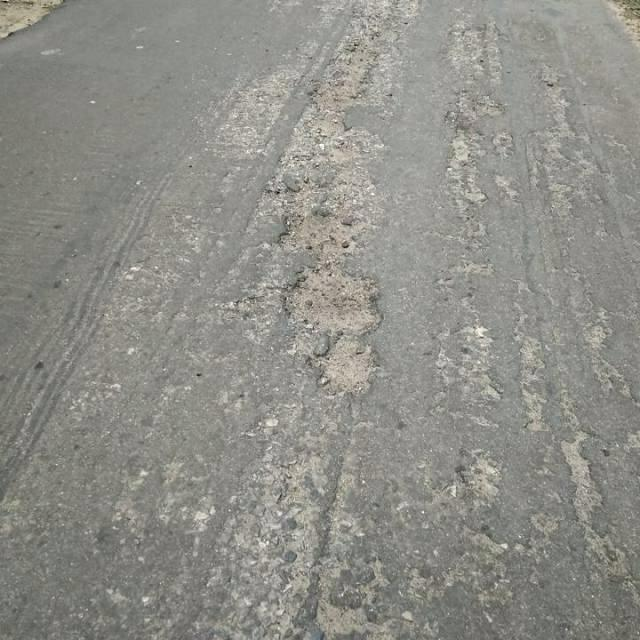Pothole: (278, 262, 388, 333), (303, 41, 380, 140), (274, 209, 372, 259), (310, 332, 381, 400), (556, 427, 606, 523), (312, 595, 377, 637), (460, 452, 506, 500)
